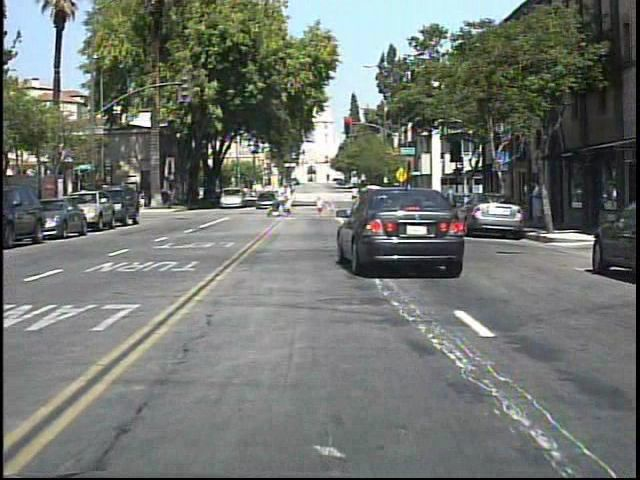person: (523, 174, 547, 230), (283, 183, 299, 221), (139, 189, 148, 213)
